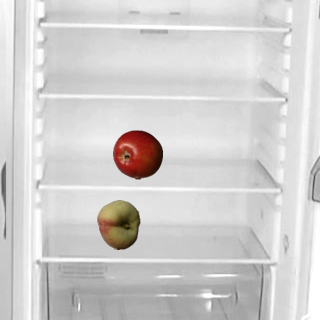Apple Braeburn: (112, 129, 162, 179)
Peach Flat: (93, 199, 143, 249)
